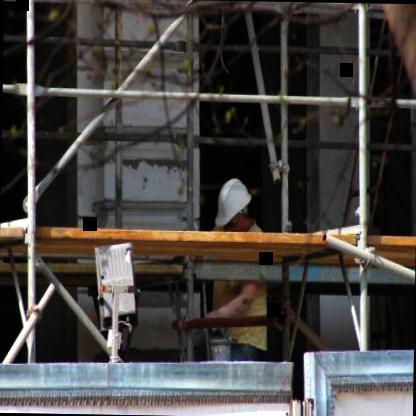helmet: (212, 171, 255, 238)
